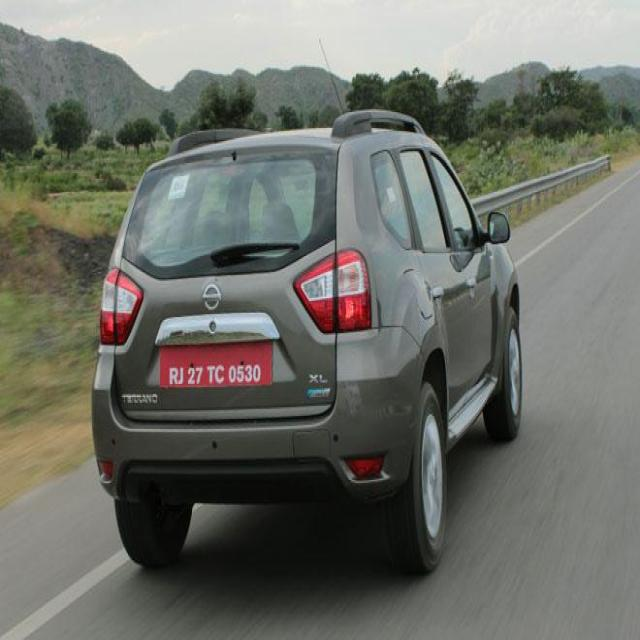number_plate: (159, 351, 272, 388)
